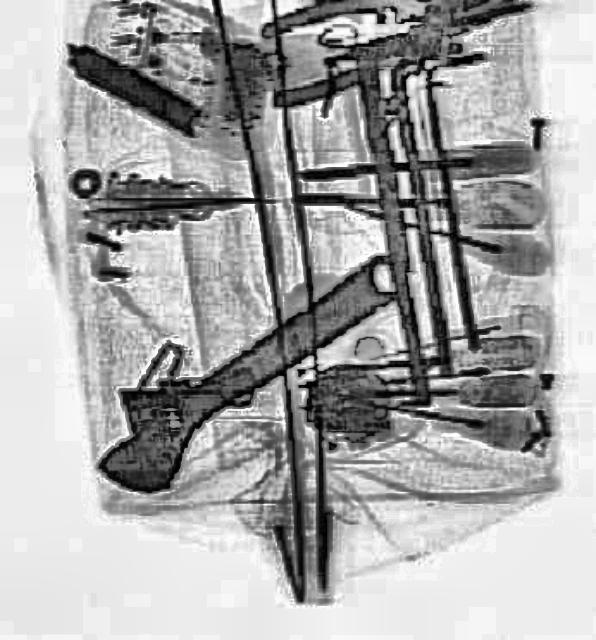Pliers: (257, 0, 533, 106)
Wrench: (63, 220, 431, 512)
